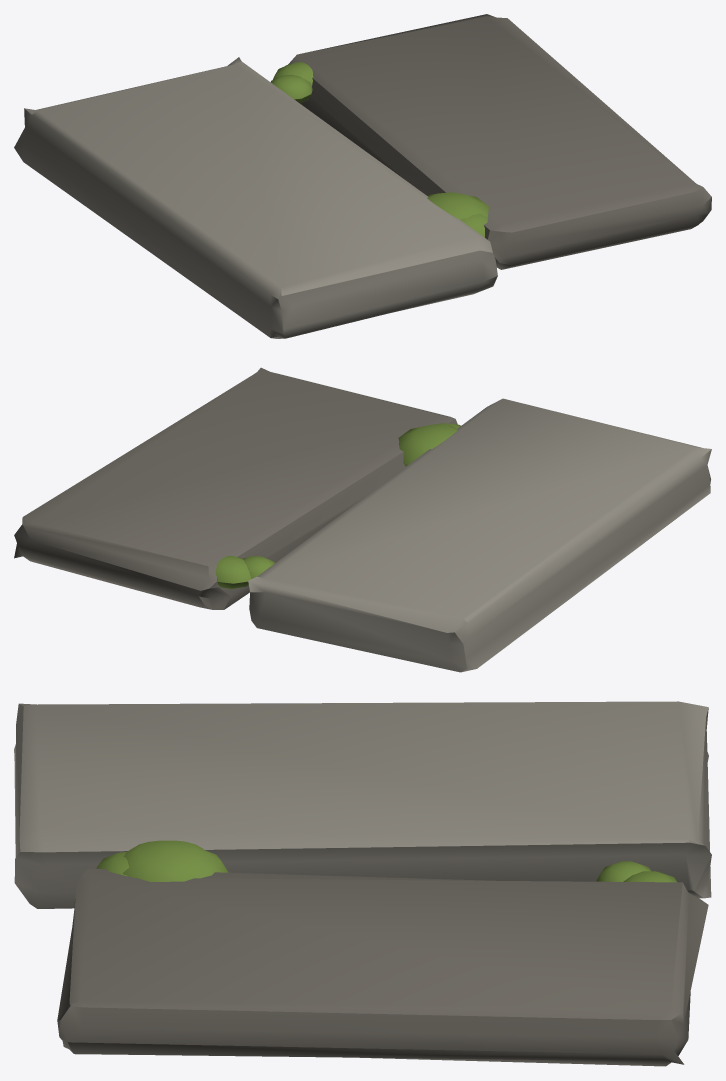
File: path_slab_b.glb
3 renders of one model, top to bottom at view 1: azimuth 30°, elevation 25°; view 2: azimuth 150°, elevation 25°; view 3: azimuth 270°, elevation 25°, orthographic. The views are drawn at different scales.
Visible parts, largest first — view 1: path_slab_b; view 2: path_slab_b; view 3: path_slab_b.
Part boxes in pixels (bbox=[...]): path_slab_b: bbox=[14, 14, 711, 338]; path_slab_b: bbox=[14, 367, 711, 672]; path_slab_b: bbox=[14, 701, 711, 1066].
Size of what is drawn, in the model's own units: 0.9769 by 0.1115 by 0.926.
